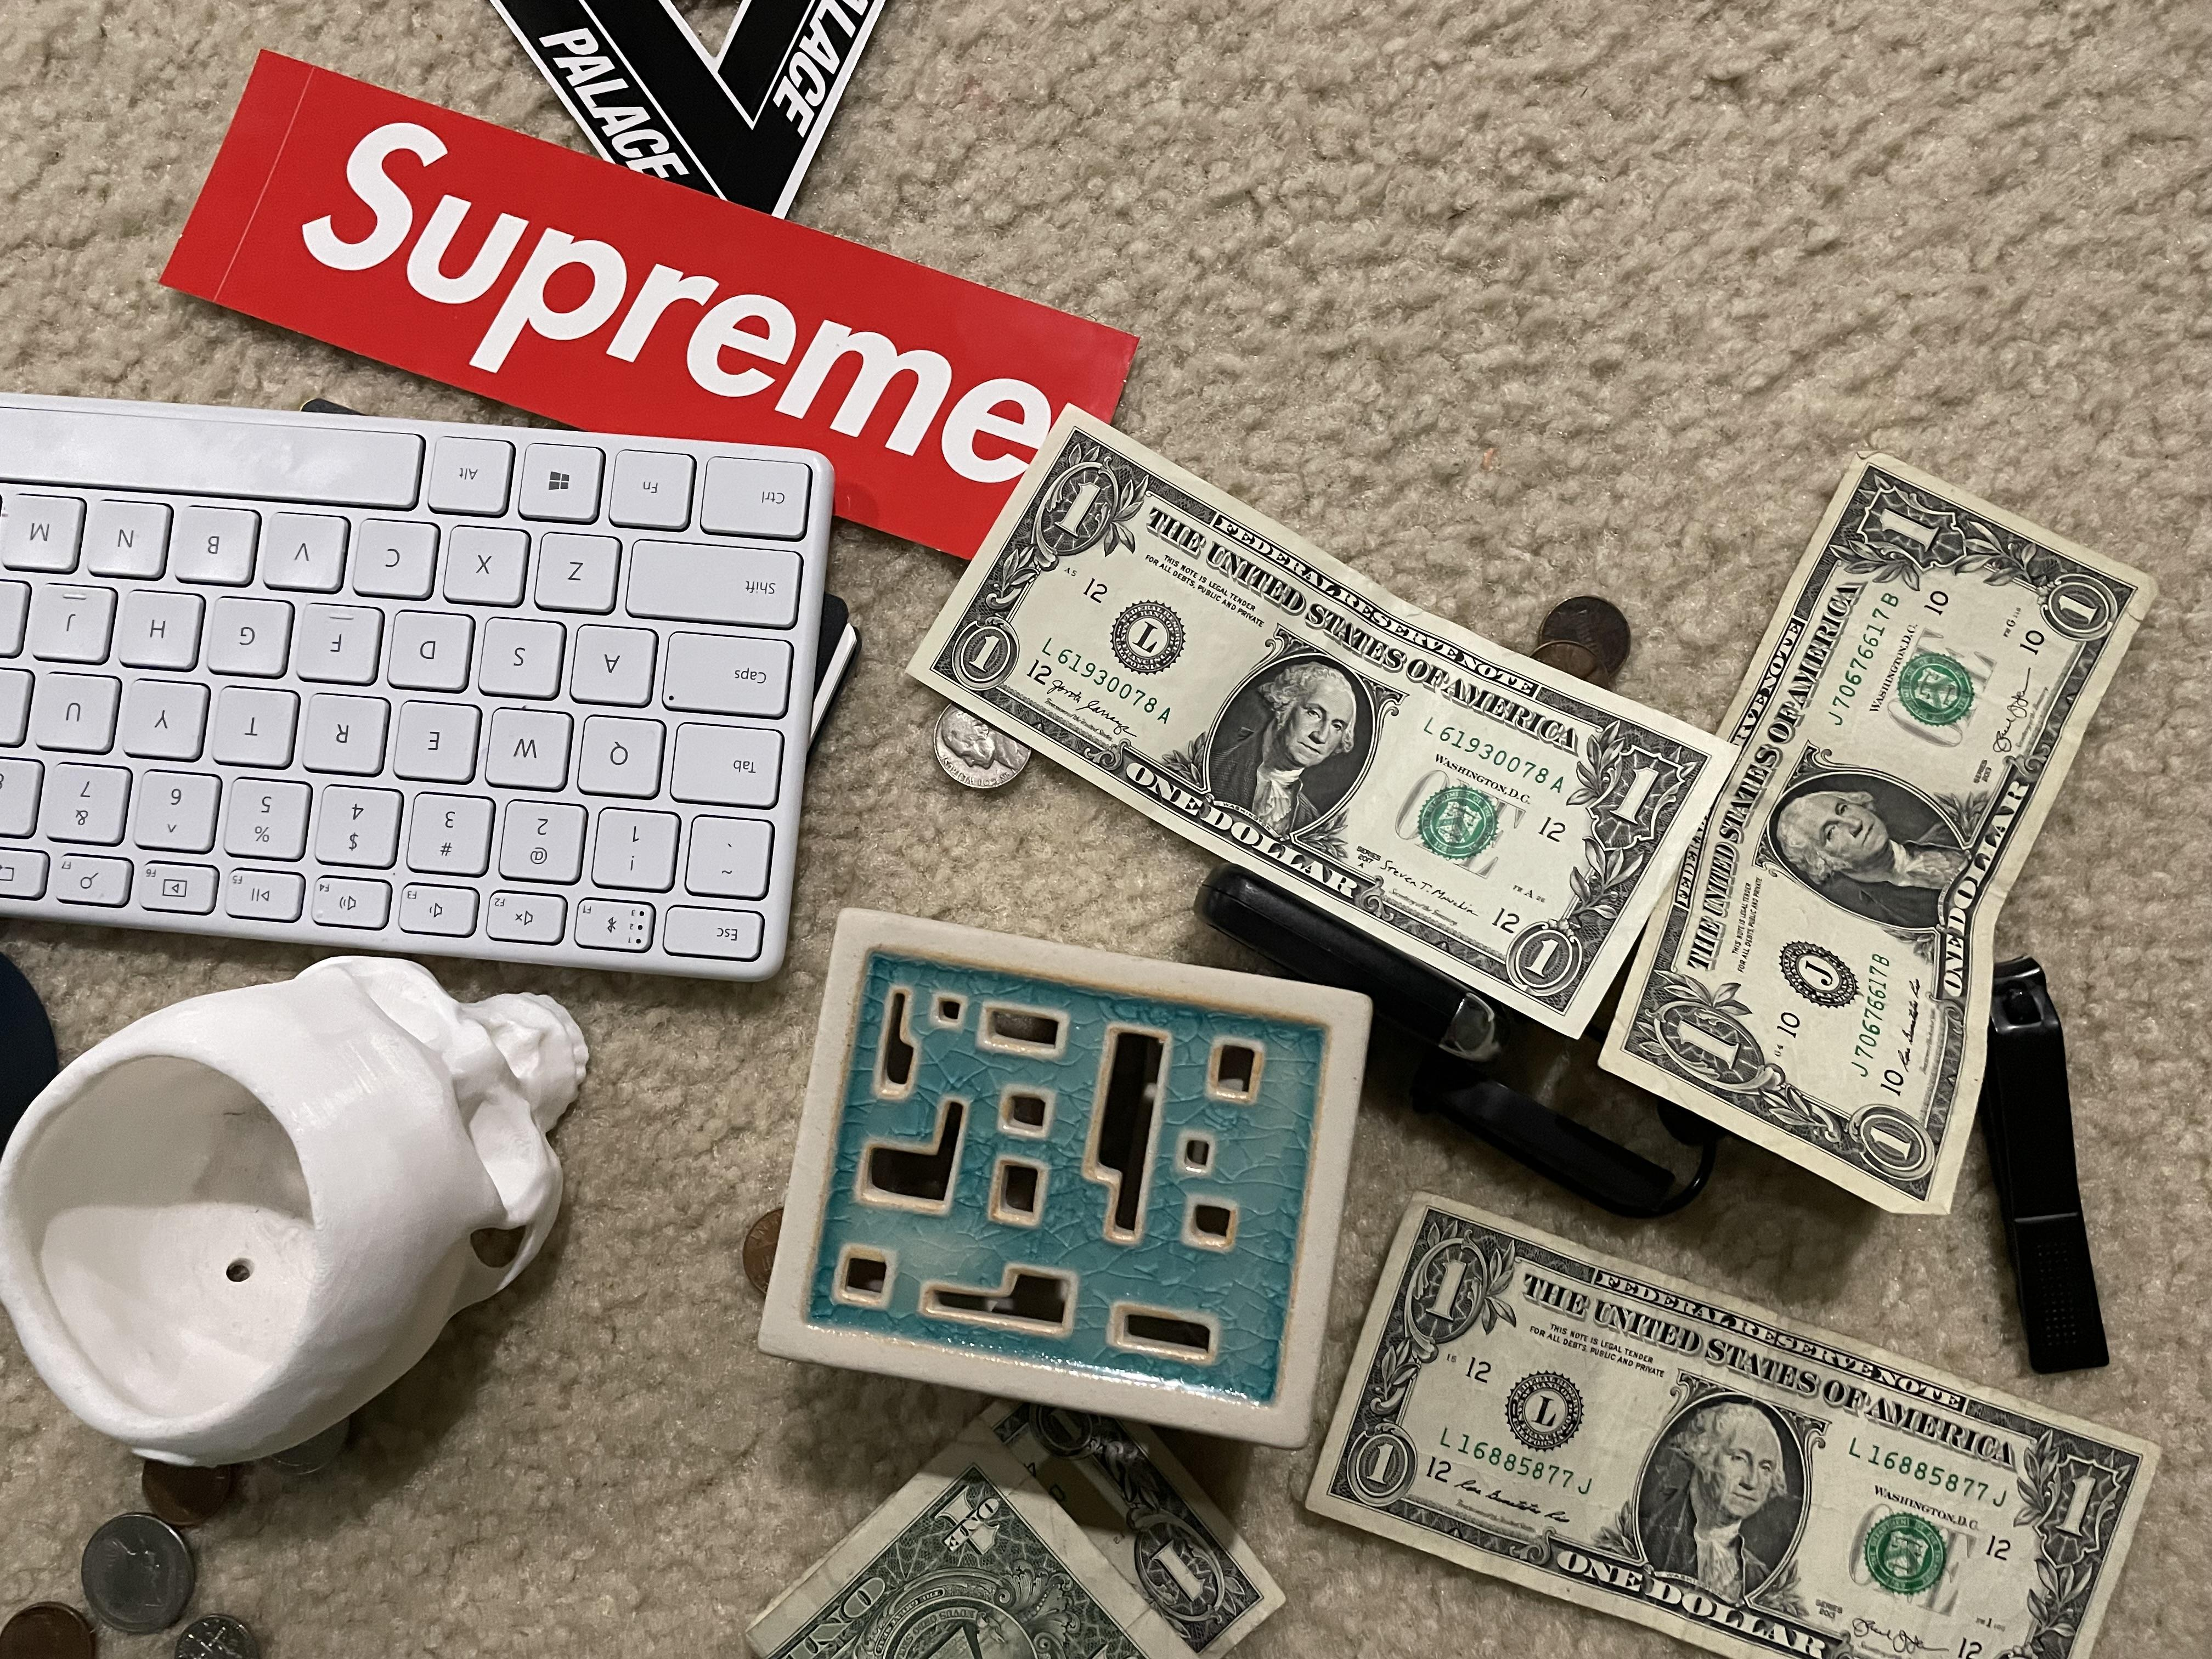Dime: (157, 1614, 298, 1657)
Nickel: (923, 687, 1045, 805)
OneBill: (913, 403, 1754, 1040), (1608, 450, 2167, 1223), (1313, 1187, 2165, 1657), (702, 1392, 1301, 1657)
Penny: (1512, 589, 1648, 683), (5, 1591, 103, 1657)
Quarter: (68, 1506, 207, 1610)
